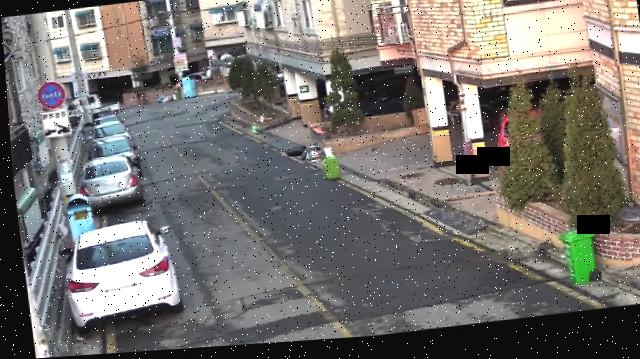bag: (318, 159, 337, 184)
